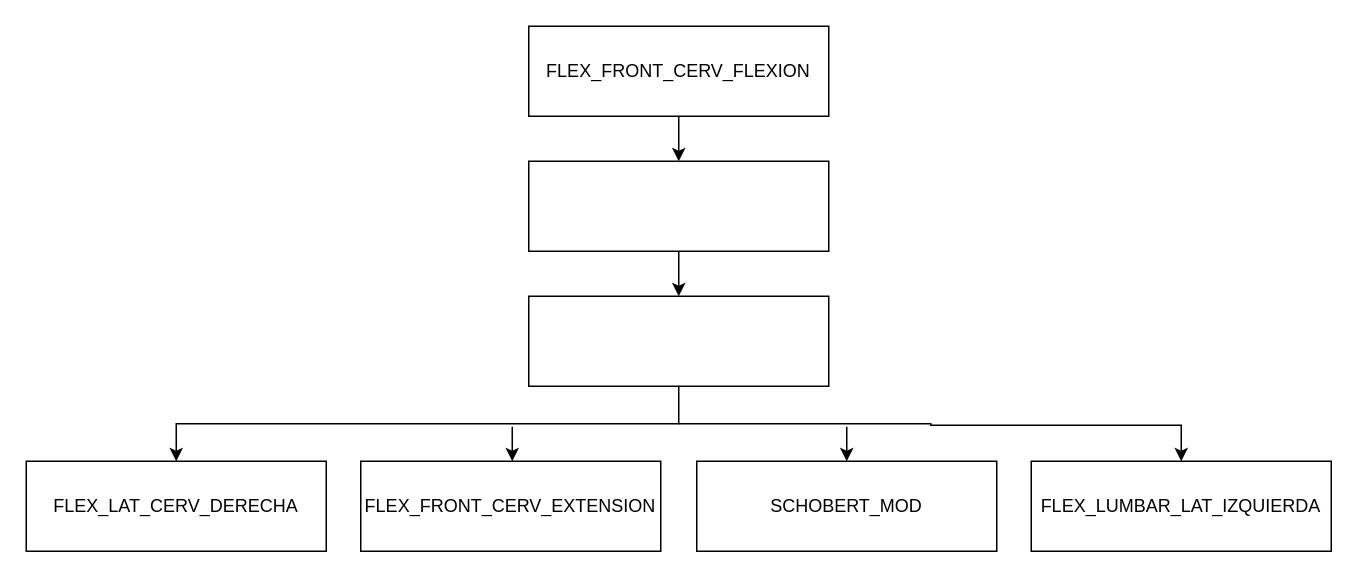
Some shapes in this 1358 by 578 pixel diagram are drawn without their labels. The centre of each missing label's shape, as x and y in pixels:
DISTANCIA_INTERMALEOLAR: pixel 678 340
ROTA_CERV_DERECHA: pixel 678 205
